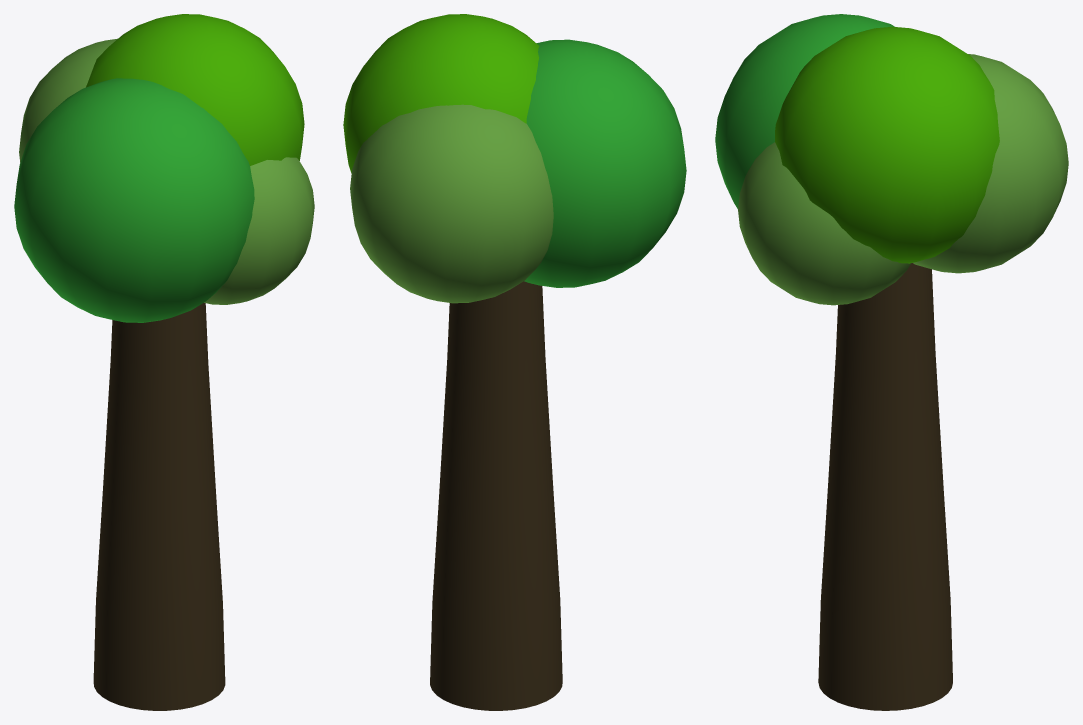
Rendered from Tree_2.fbx.
The picture shows the model from 3 angles, left to right: view 1: azimuth 30°, elevation 25°; view 2: azimuth 150°, elevation 25°; view 3: azimuth 270°, elevation 25°; orthographic projection.
Parts seen in each view (by area): view 1: Tree_2; view 2: Tree_2; view 3: Tree_2.
Boxes of the visible parts, x1,y1,x2,y2 form: Tree_2: (14,14,314,710); Tree_2: (343,14,686,710); Tree_2: (715,14,1068,710).
Size of the model in its own units: 5.18 by 11.24 by 5.45.
